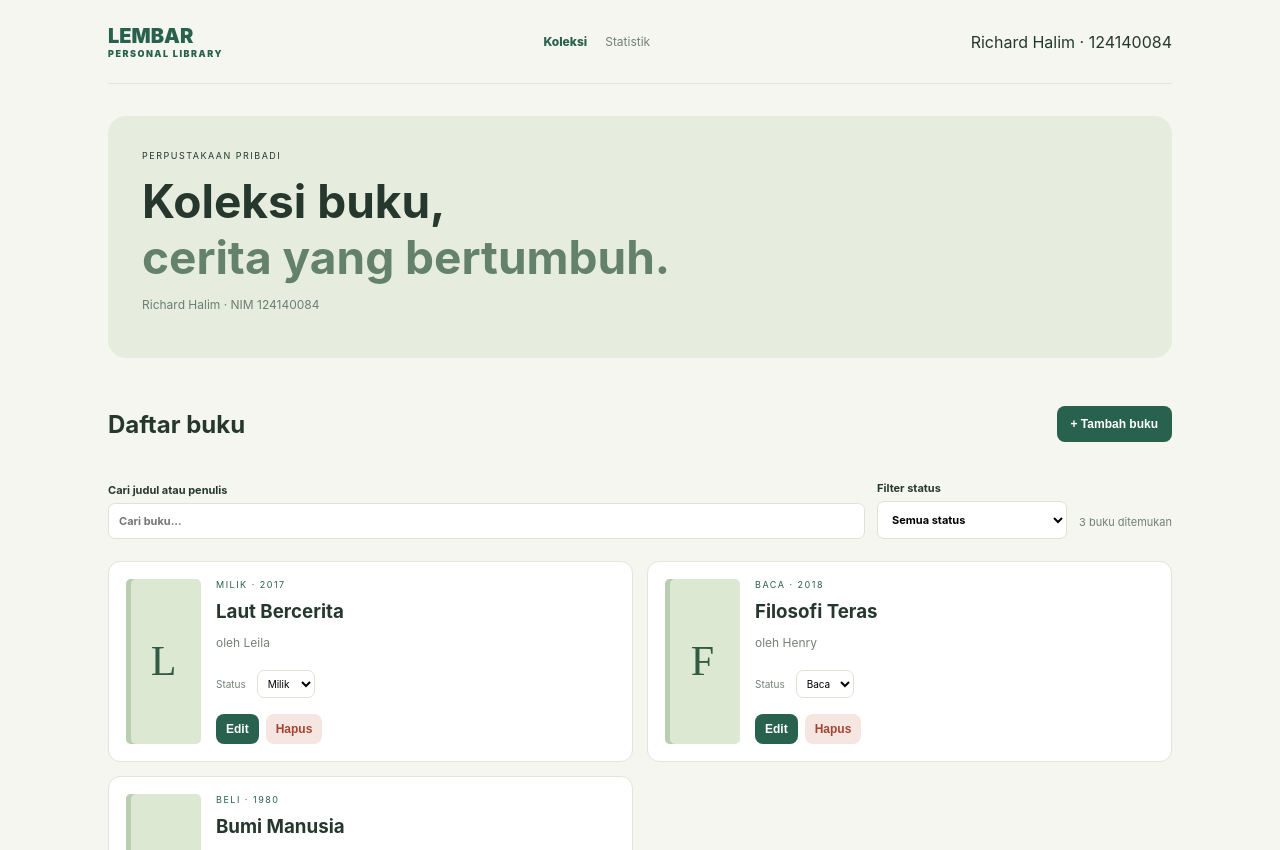
mengganti isian ketika beralih buku yang diedit
Step 1. Click the button "Edit" below "Leila" → (237, 729), box [216,714,259,744]
(page scrolled)
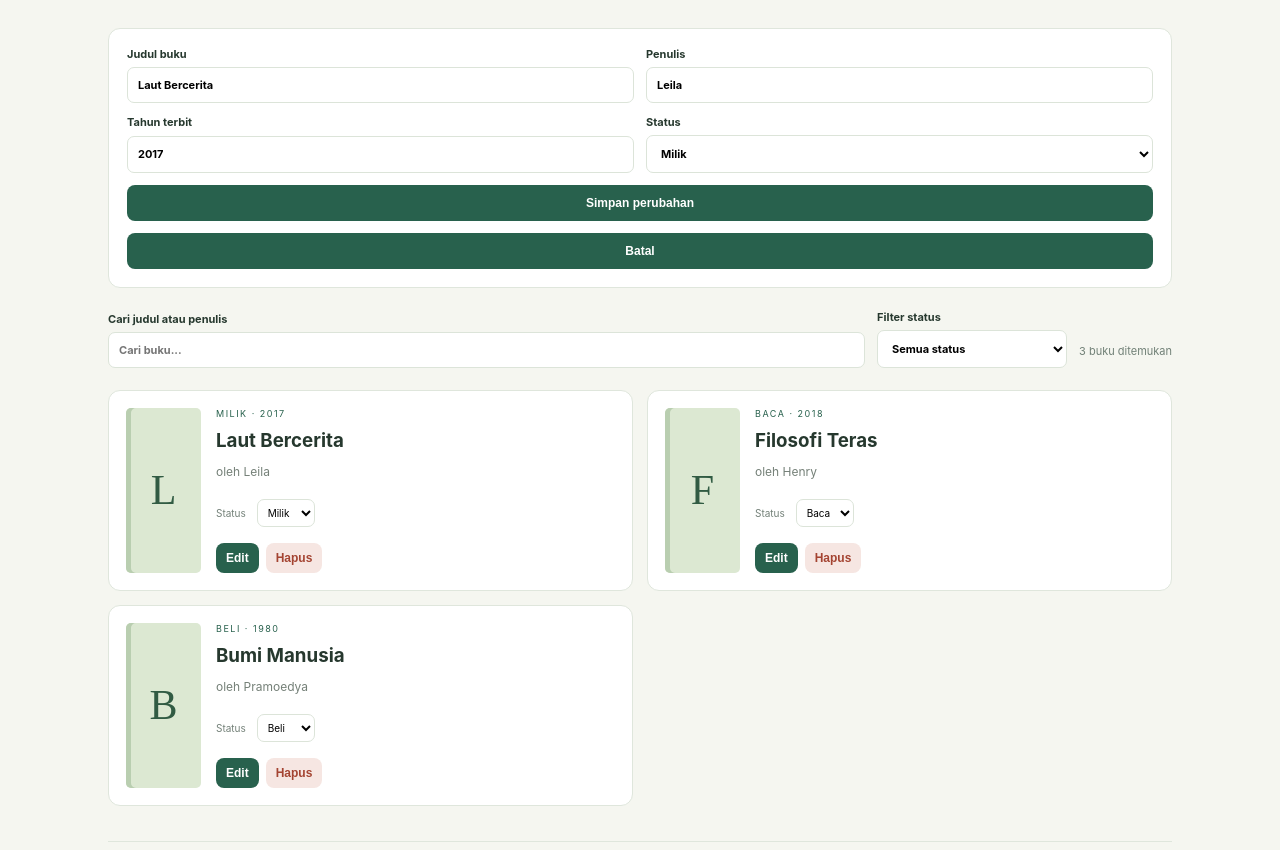
Step 2. Click the button "Edit" below "Henry" → (776, 558), box [755,543,798,573]
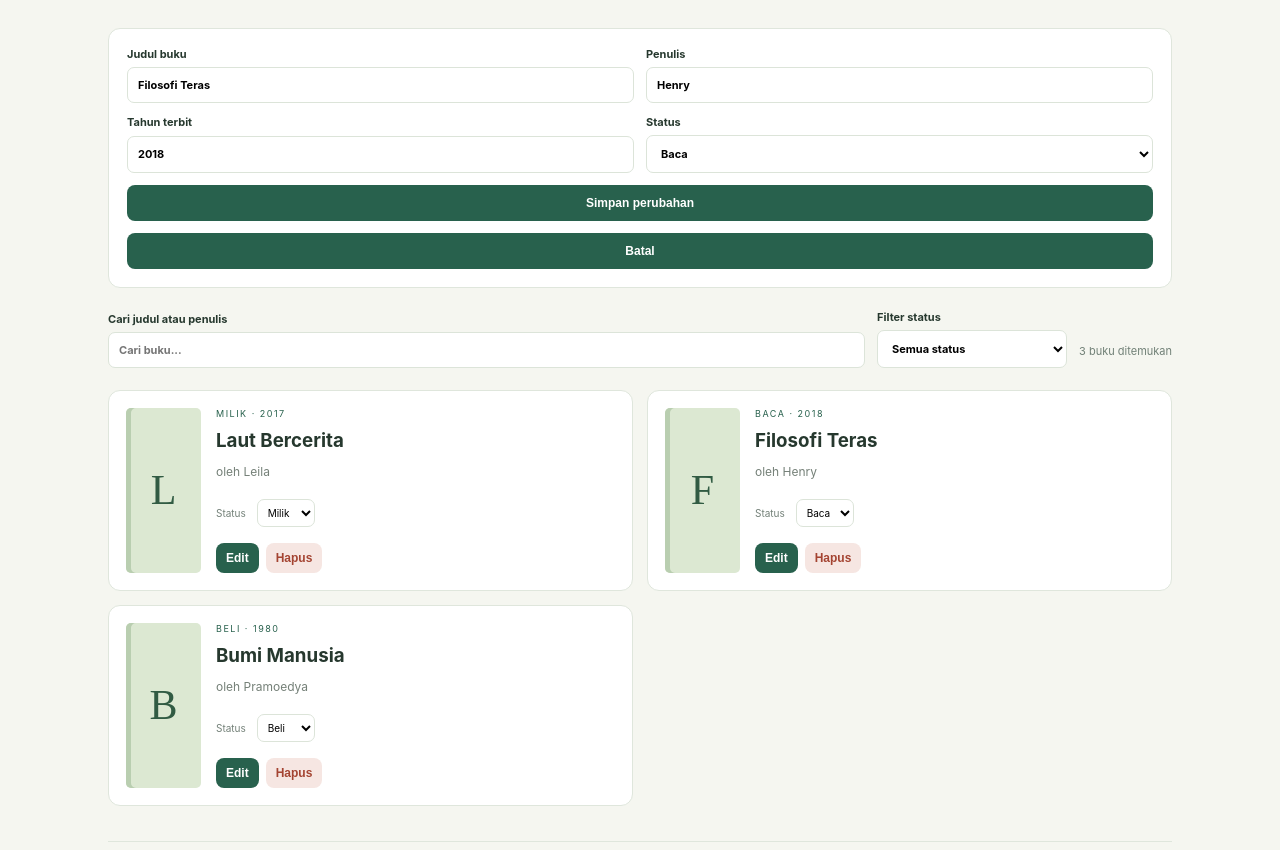
Expected: the field labelled "Judul buku" holds "Filosofi Teras", [127,67,634,103]
